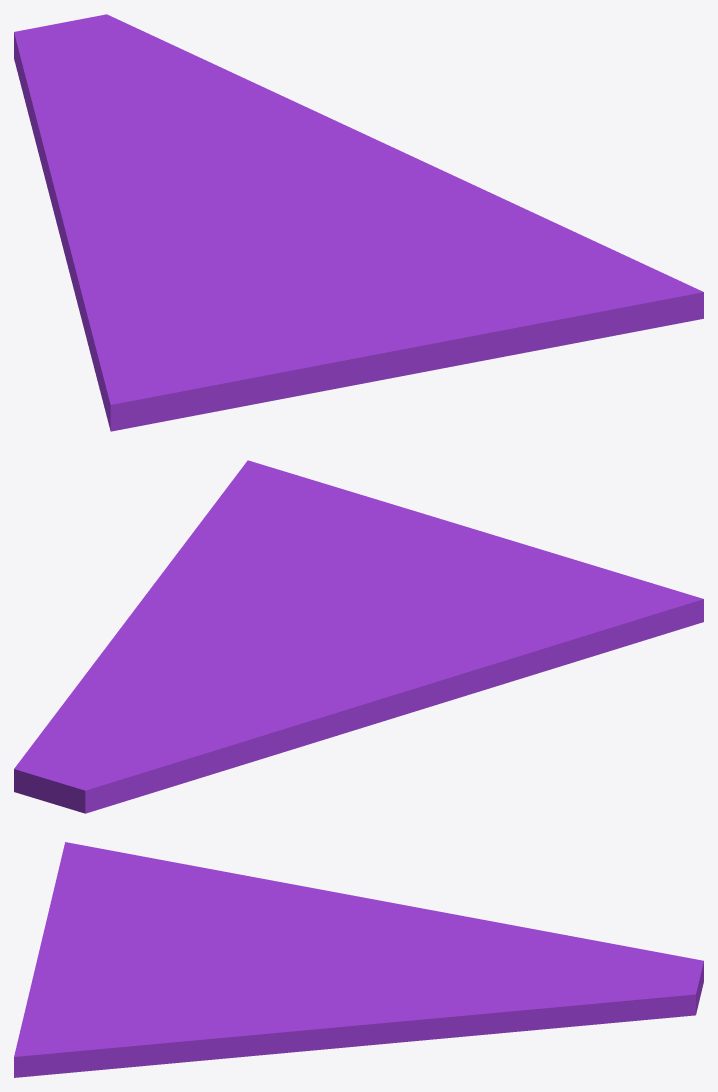
File: StairsStep_44_chunks.fbx
3 renders of one model, top to bottom at view 1: azimuth 30°, elevation 25°; view 2: azimuth 150°, elevation 25°; view 3: azimuth 270°, elevation 25°, orthographic. The views are drawn at different scales.
Visible parts, largest first — view 1: StairsStep_44_0, StairsStep_44_2, StairsStep_44_1, StairsStep_44_3; view 2: StairsStep_44_0, StairsStep_44_1, StairsStep_44_2, StairsStep_44_3; view 3: StairsStep_44_0, StairsStep_44_2, StairsStep_44_1, StairsStep_44_3.
Part boxes in pixels (x1,y1,x2,y2): StairsStep_44_0: [52, 181, 449, 431]; StairsStep_44_2: [296, 125, 703, 368]; StairsStep_44_1: [14, 14, 343, 205]; StairsStep_44_3: [219, 154, 412, 312]; StairsStep_44_0: [269, 519, 703, 737]; StairsStep_44_1: [14, 646, 332, 813]; StairsStep_44_2: [107, 460, 442, 648]; StairsStep_44_3: [180, 543, 409, 659]; StairsStep_44_0: [36, 842, 448, 964]; StairsStep_44_2: [14, 965, 434, 1077]; StairsStep_44_1: [376, 913, 703, 1039]; StairsStep_44_3: [95, 959, 396, 993].
Bounding box in the file's own units: 395 × 17.94 × 535.
